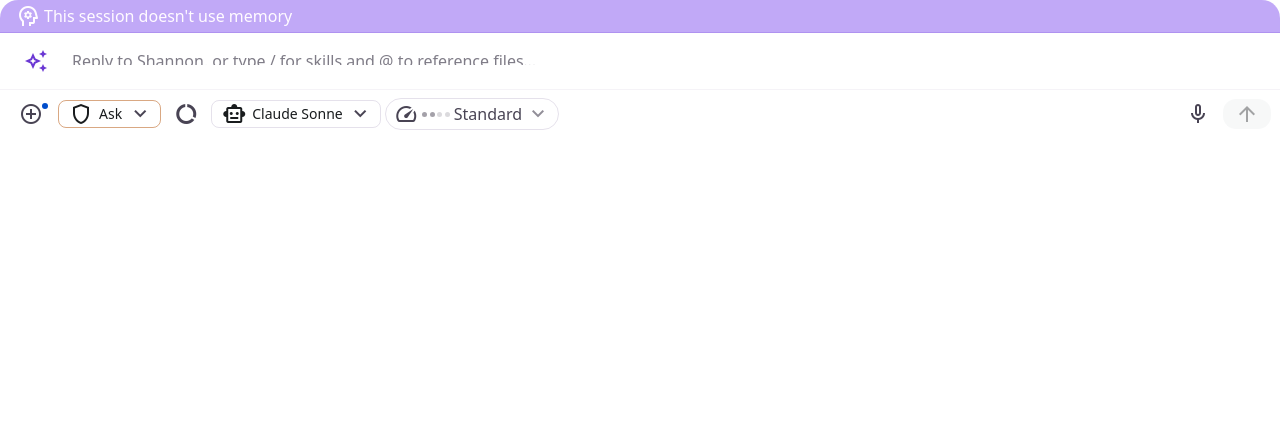
Test case: ChatInput memory bypass (+ menu item, 02c D4) › restores an active bypass (banner + menu label) after a session switch
Check: the message "This session doesn't use memory" is shown, box [0,0,1279,33]
What coordinates should you click on to do the following:
click the button with test id "composer-plus-menu"
I would click on:
 (31, 114)
Its box is [8,96,54,130].
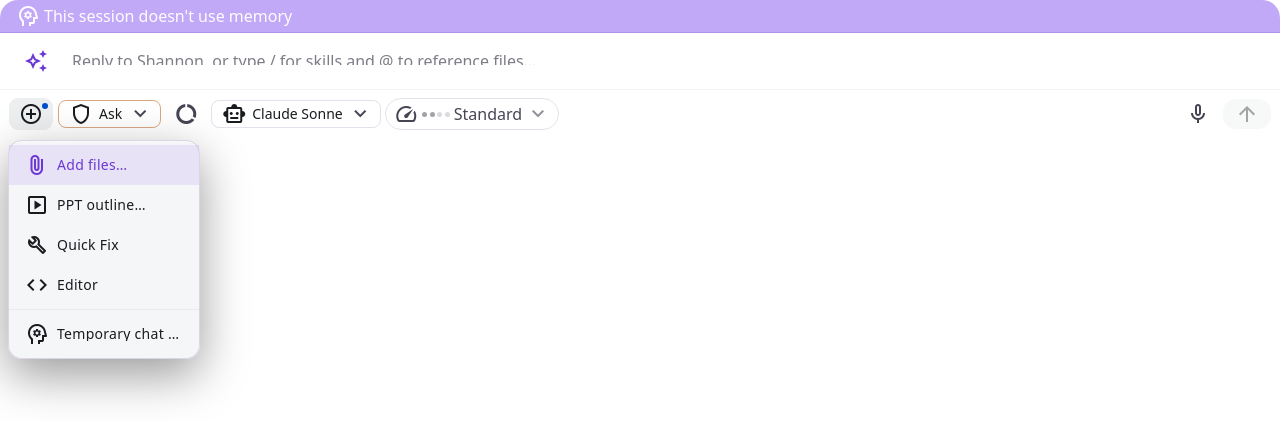
Check: the menu item with test id "memory-bypass-toggle" shows "Temporary chat · on", box [9,314,199,354]
